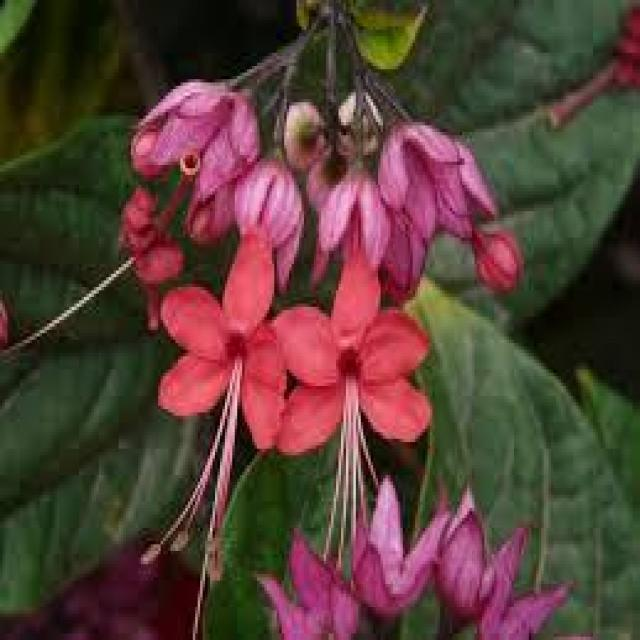organic waste: (263, 264, 451, 475), (163, 232, 299, 463)
